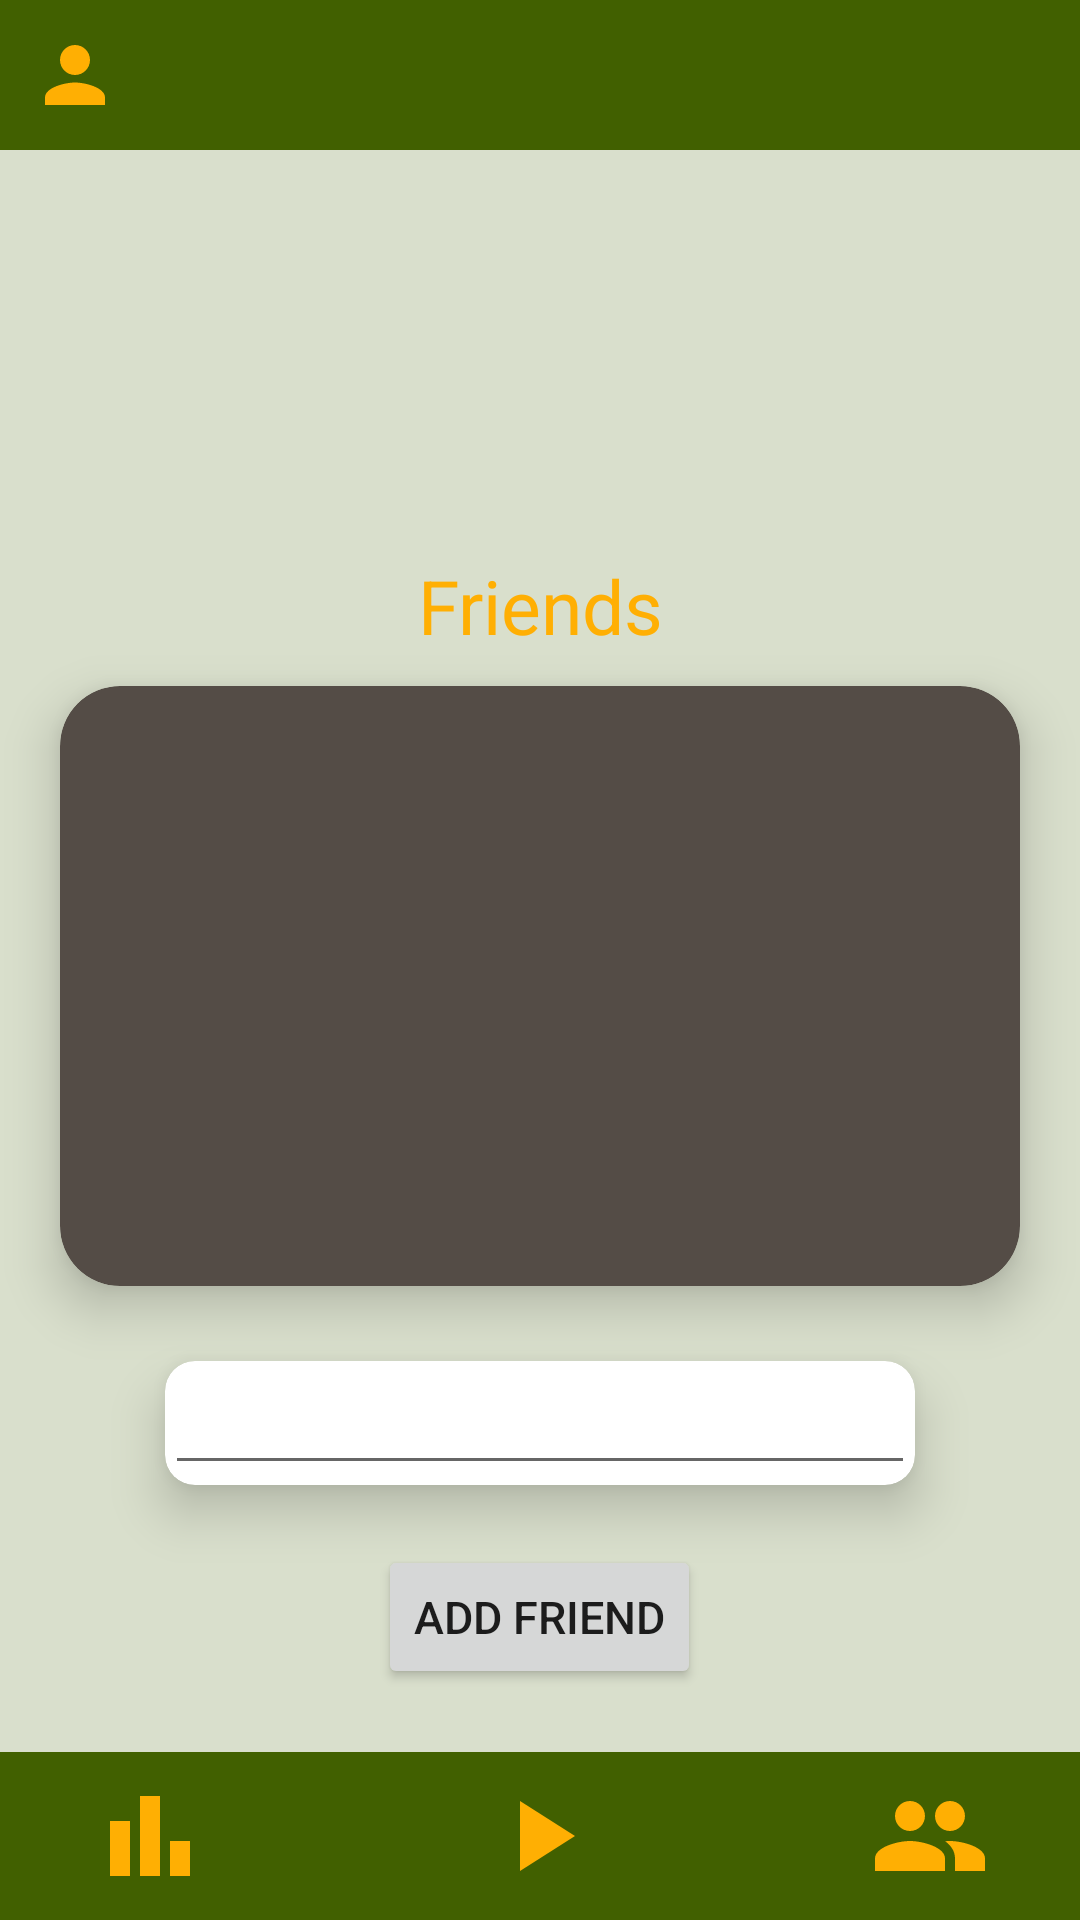

Point at icon controls on the screen. Image size 1080px×1920px, points as (x,y).
bar chart: (150,1836)
people: (930,1836)
play arrow: (547,1836)
profile: (75,75)
